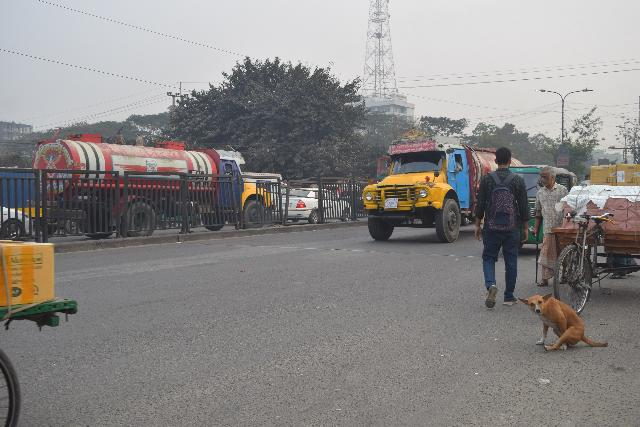car: (277, 187, 333, 224)
truck: (352, 130, 479, 256)
